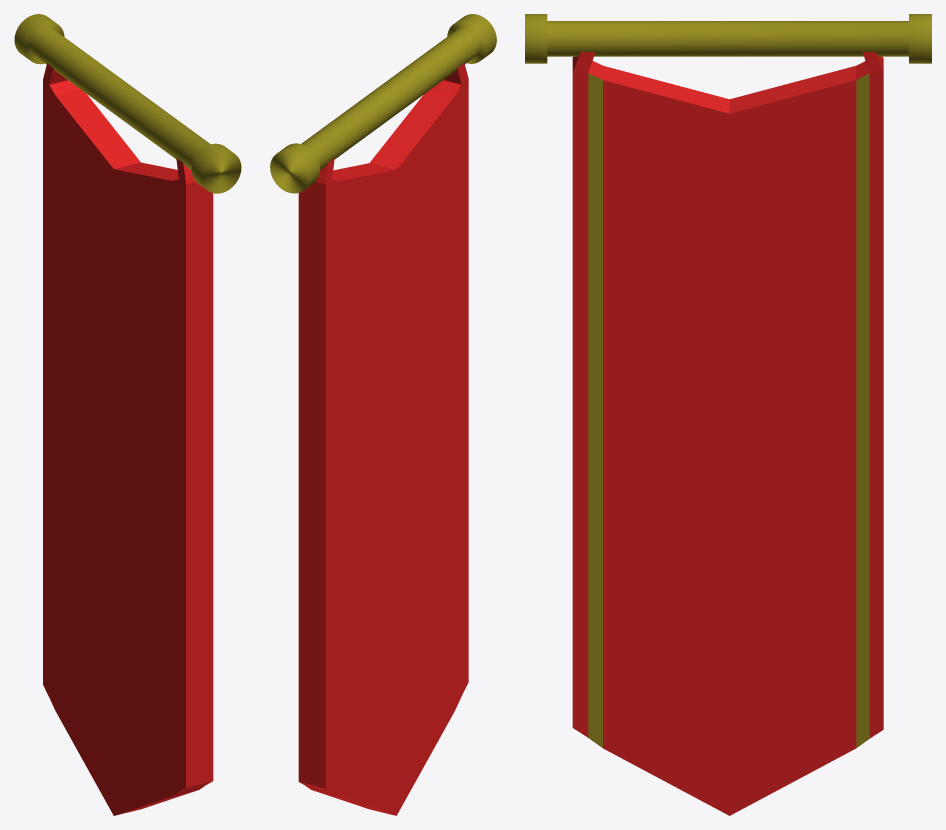
Rendered from main title banner.fbx.
3 renders of one model, left to right at view 1: azimuth 30°, elevation 25°; view 2: azimuth 150°, elevation 25°; view 3: azimuth 270°, elevation 25°, orthographic. The views are drawn at different scales.
Parts seen in each view (by area): view 1: Cube, Cylinder; view 2: Cube, Cylinder; view 3: Cube, Cylinder.
Part boxes in pixels (x1,y1,x2,y2): Cube: (43, 63, 213, 815); Cylinder: (14, 14, 241, 193); Cube: (298, 63, 468, 815); Cylinder: (270, 14, 496, 193); Cube: (572, 52, 883, 815); Cylinder: (525, 14, 931, 63).
Bounding box in the file's own units: 58.15 × 1024 × 477.
